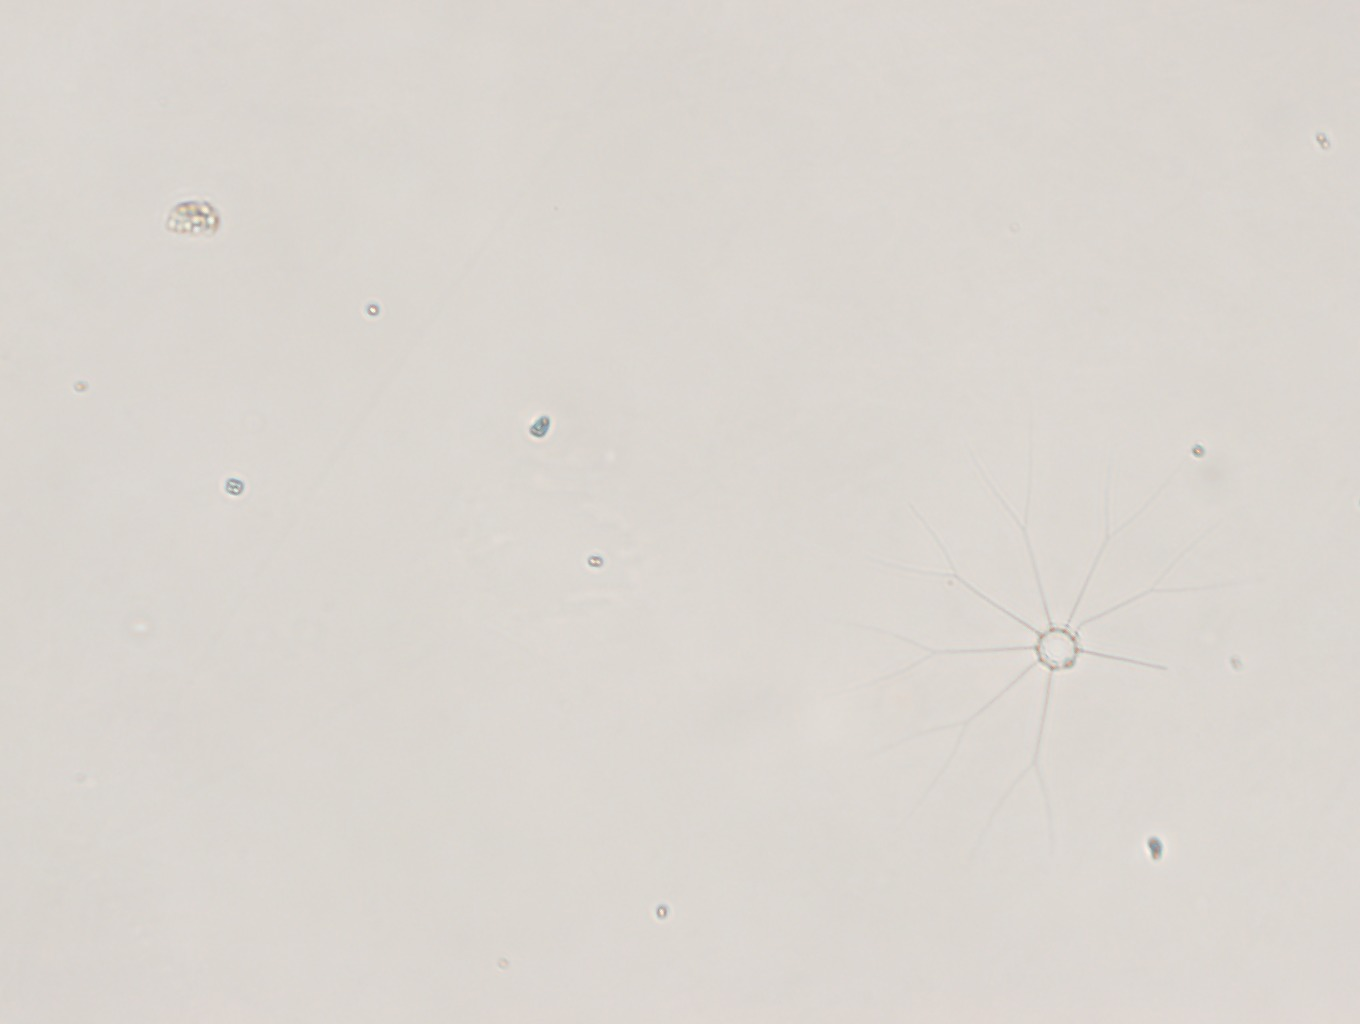bacteriastrum: (882, 455, 1241, 857)
